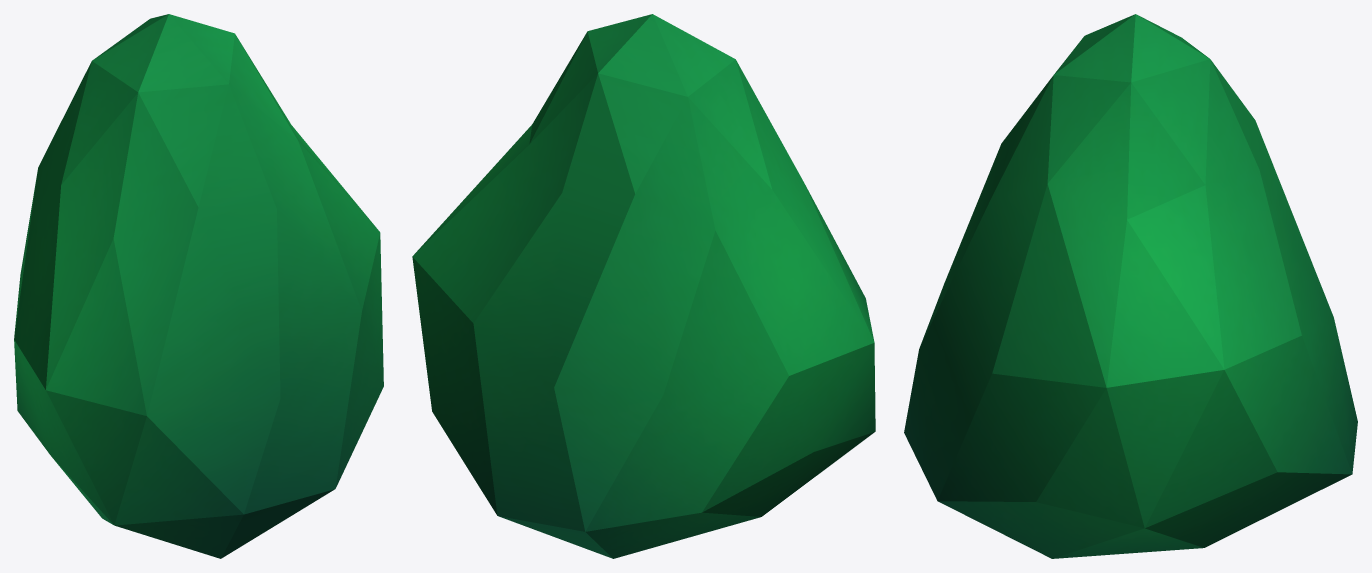
Rendered from rock-1.fbx.
The picture shows the model from 3 angles, left to right: view 1: azimuth 30°, elevation 25°; view 2: azimuth 150°, elevation 25°; view 3: azimuth 270°, elevation 25°; orthographic projection. The views are drawn at different scales.
Visible parts, largest first — view 1: Icosphere.001; view 2: Icosphere.001; view 3: Icosphere.001.
Boxes of the visible parts, x1=… form: Icosphere.001: x1=14, y1=14, x2=383, y2=558; Icosphere.001: x1=412, y1=14, x2=875, y2=558; Icosphere.001: x1=904, y1=14, x2=1357, y2=558.
Size of the model in its own units: 1197 by 1545 by 1218.
